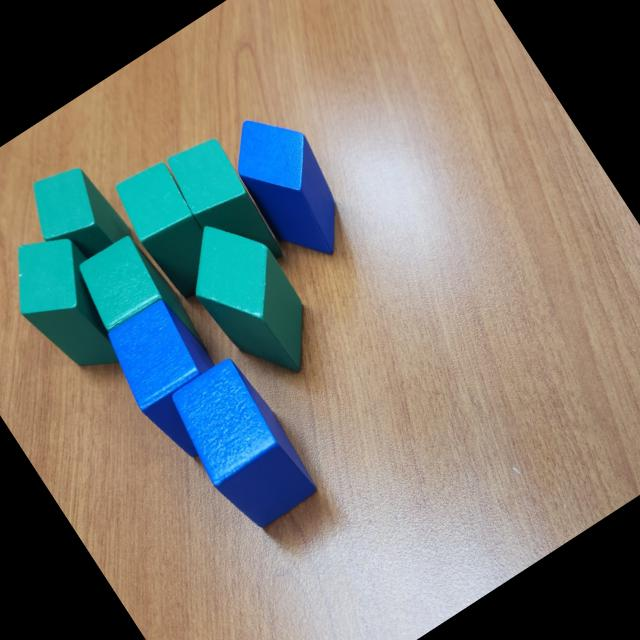blue: (158, 351, 324, 538), (94, 290, 253, 468), (213, 97, 369, 275)
green: (166, 202, 334, 394), (0, 217, 143, 392), (67, 226, 212, 389), (159, 129, 290, 285), (107, 155, 236, 304), (15, 152, 136, 279)
